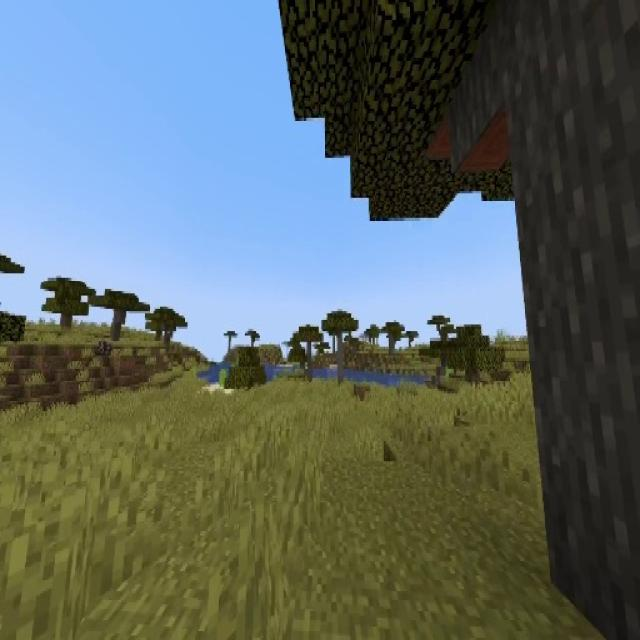acacia: (91, 289, 150, 340), (323, 309, 357, 381), (295, 325, 324, 378)
acacia_log: (505, 4, 640, 640)
